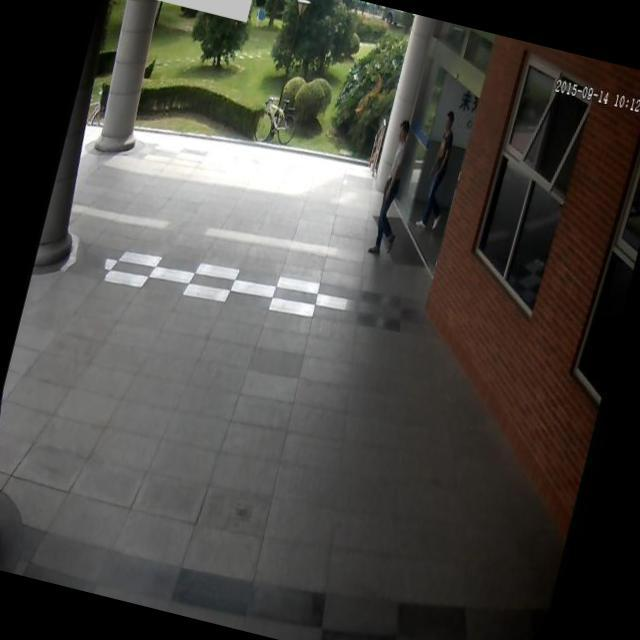person: (354, 107, 429, 272), (412, 98, 468, 234)
